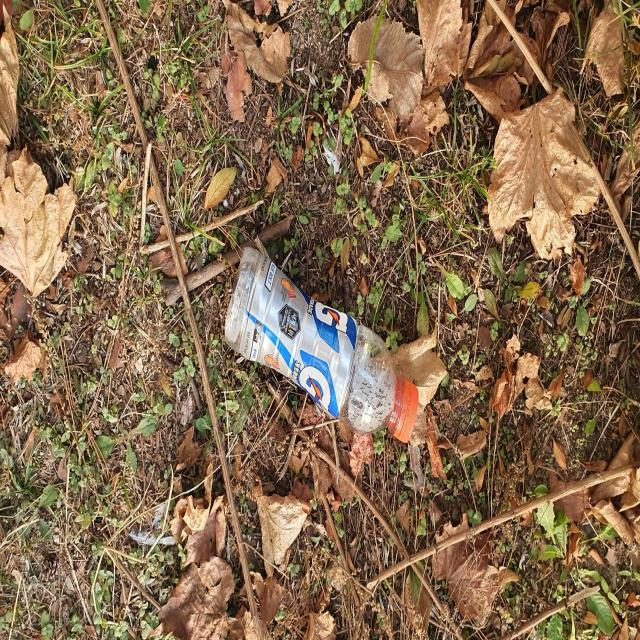plastic: (225, 245, 419, 442)
